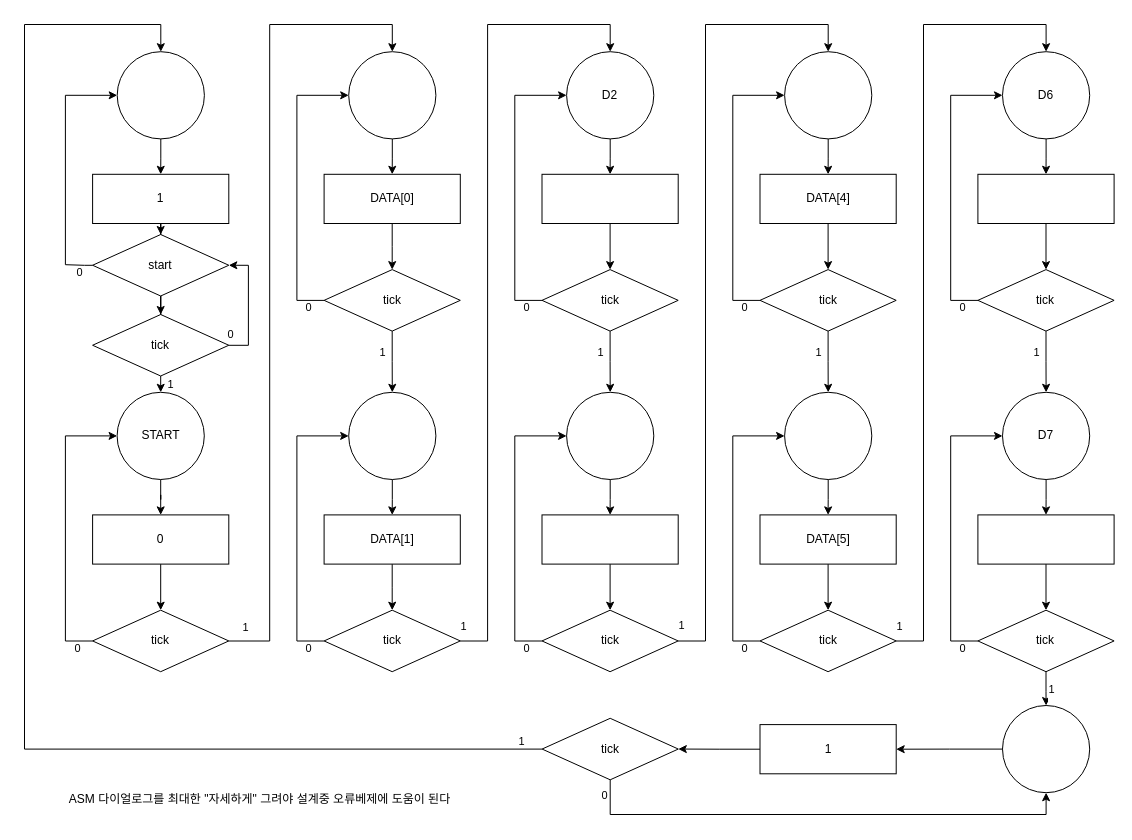
This 1132x840 diagram has some shape labels left out. Each missing label, with the centre of its shape:
"D0" goes at (x=392, y=95).
"D1" goes at (x=392, y=435).
"D3" goes at (x=610, y=435).
"D4" goes at (x=828, y=95).
"D5" goes at (x=828, y=435).
"DATA[2]" goes at (x=609, y=198).
"DATA[3]" goes at (x=609, y=539).
"DATA[6]" goes at (x=1045, y=198).
"DATA[7]" goes at (x=1045, y=539).
"IDLE" goes at (x=160, y=95).
"STOP" goes at (x=1046, y=748).
